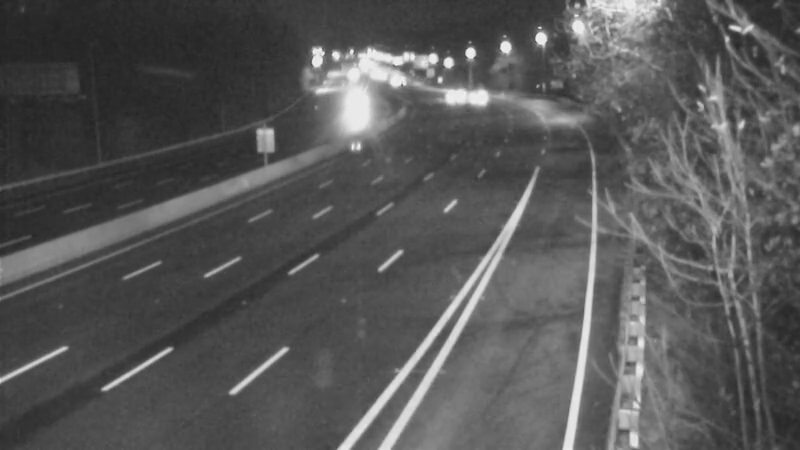vehicle: (429, 71, 479, 121), (450, 70, 500, 120), (328, 83, 378, 133)
